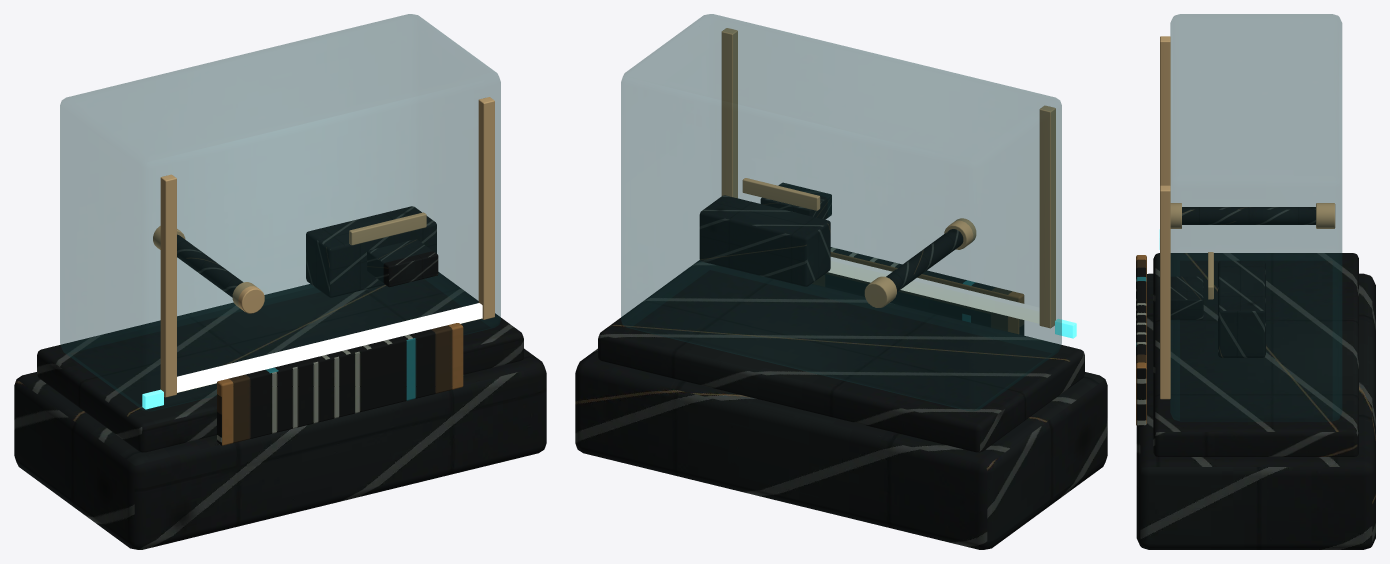
Rendered from hp_room_museum_display_case_tool.glb.
3 renders of one model, left to right at view 1: azimuth 30°, elevation 25°; view 2: azimuth 150°, elevation 25°; view 3: azimuth 270°, elevation 25°, orthographic. The views are drawn at different scales.
Visible parts, largest first — view 1: glass_vitrine_volume, stone_plinth_grounded, archived_iron_rod_like_player_weapon, tool_label_panel, case_vertical_brass_archive_frame, case_warm_underlight; view 2: glass_vitrine_volume, archived_iron_rod_like_player_weapon, stone_plinth_grounded, case_vertical_brass_archive_frame, tool_label_panel, case_warm_underlight; view 3: glass_vitrine_volume, archived_iron_rod_like_player_weapon, stone_plinth_grounded, case_vertical_brass_archive_frame, tool_label_panel.
Boxes of the visible parts, x1,y1,x2,y2 form: glass_vitrine_volume: (60,14,500,410); stone_plinth_grounded: (14,348,546,549); archived_iron_rod_like_player_weapon: (37,206,523,452); tool_label_panel: (217,323,463,445); case_vertical_brass_archive_frame: (153,97,494,397); case_warm_underlight: (177,303,482,392); glass_vitrine_volume: (621,14,1061,410); archived_iron_rod_like_player_weapon: (598,182,1084,452); stone_plinth_grounded: (575,348,1107,549); case_vertical_brass_archive_frame: (721,28,1055,328); tool_label_panel: (812,247,1024,335); case_warm_underlight: (828,257,1039,323); glass_vitrine_volume: (1170,14,1341,421); archived_iron_rod_like_player_weapon: (1153,207,1358,456); stone_plinth_grounded: (1136,273,1375,549); case_vertical_brass_archive_frame: (1160,36,1335,399); tool_label_panel: (1136,255,1146,426).
Bounding box in the file's own units: 1.77 × 1.52 × 0.9154.
7 materials, 4 textured.
